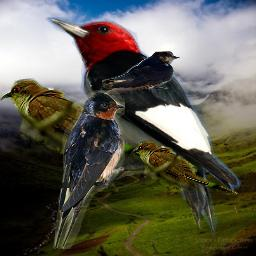Cuckoo: (0, 78, 168, 165), (131, 140, 238, 195)
Swallow: (51, 90, 125, 249), (102, 51, 180, 94)
Woodpecker: (44, 17, 245, 237)
